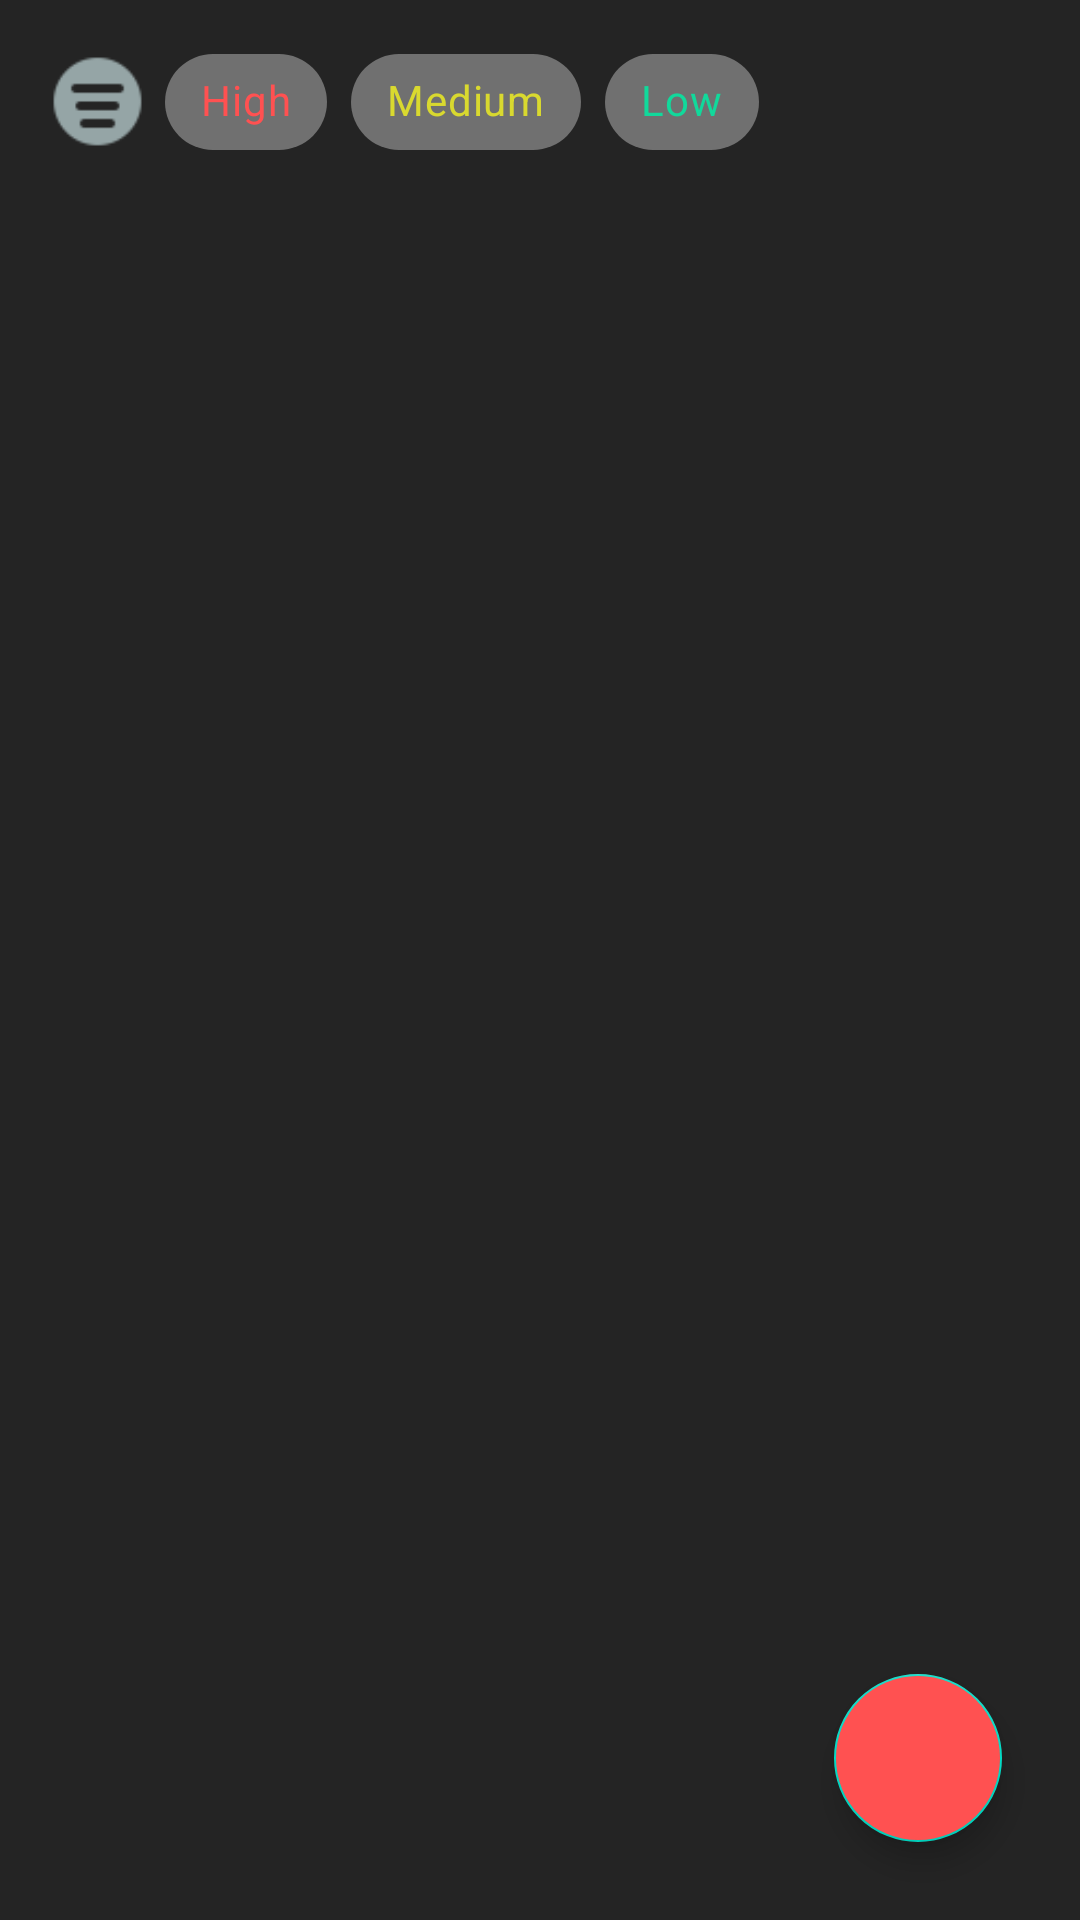

Icon click points for this 1080×1920 phone screenshot, format [x,y]:
filter: [97,101]
